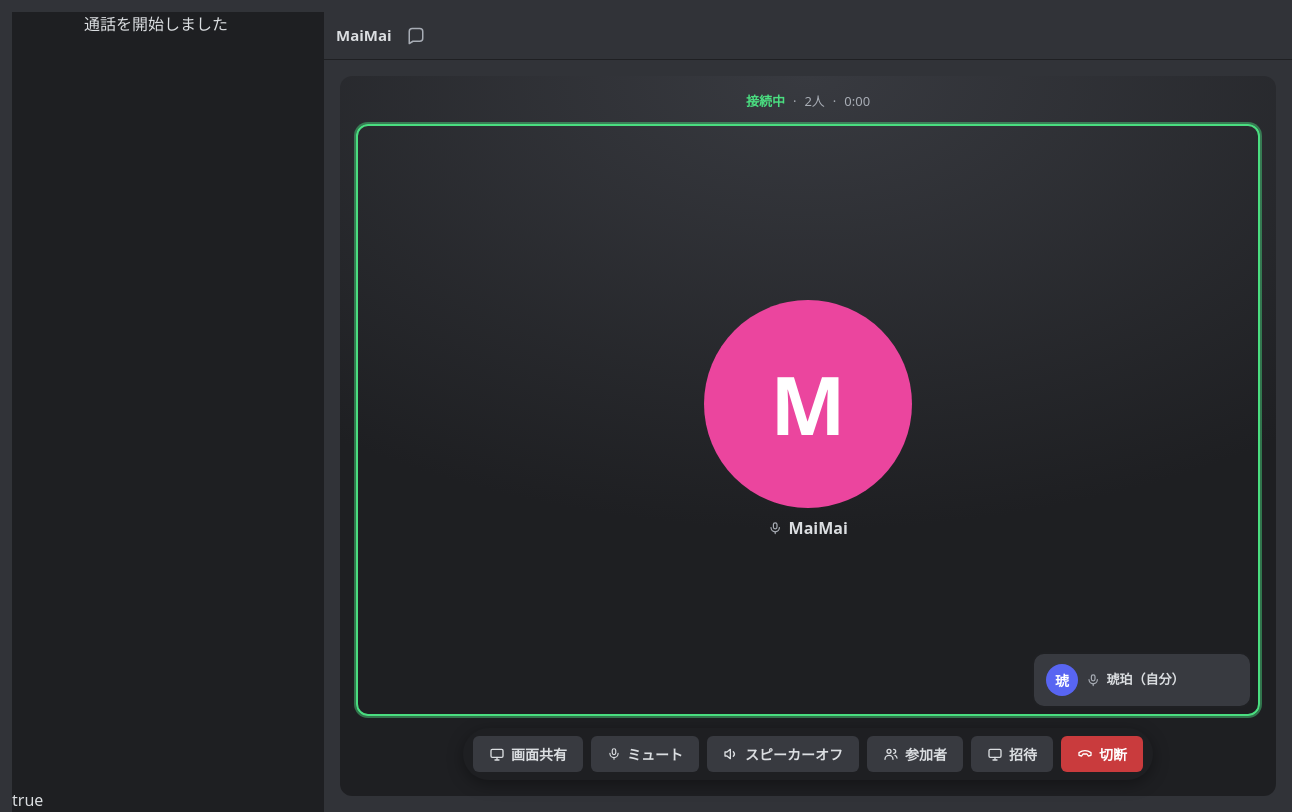
Scenario: 通話の終了と重複防止（#140） › 「チャットに戻る」でも通話を終了し、開始ログが孤立しない
The image size is (1292, 812).
Expected: the text with test id "log" reads "通話を開始しました", [84,13,228,35]
// ヘッダーの「チャットに戻る」で終了ログを残す（開始だけの孤立を作らない）
Click the link named "チャットに戻る" at coordinates (416, 36), box [407,26,425,44]
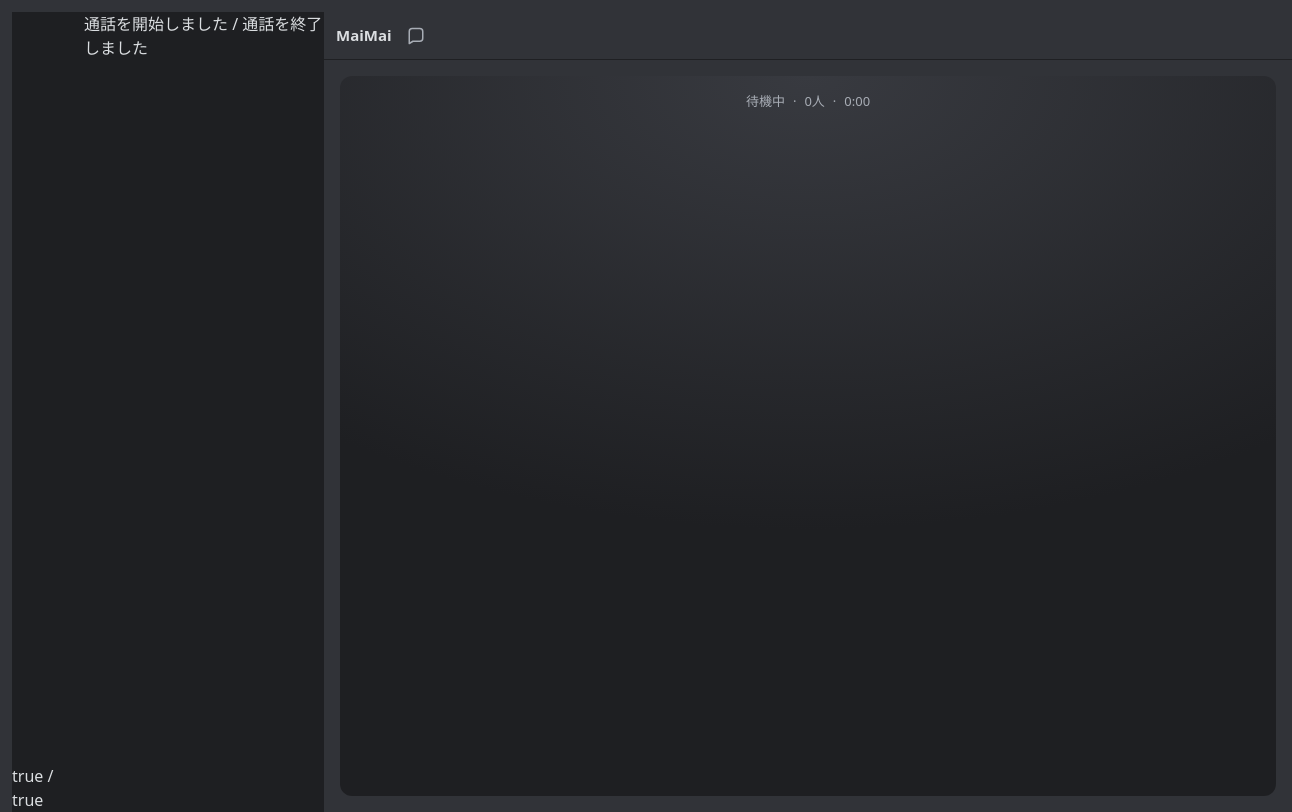
Expected: the text with test id "log" shows "通話を終了しました", [84,13,322,59]
Expected: the text with test id "log-system" reads "true / true", [12,765,53,811]
